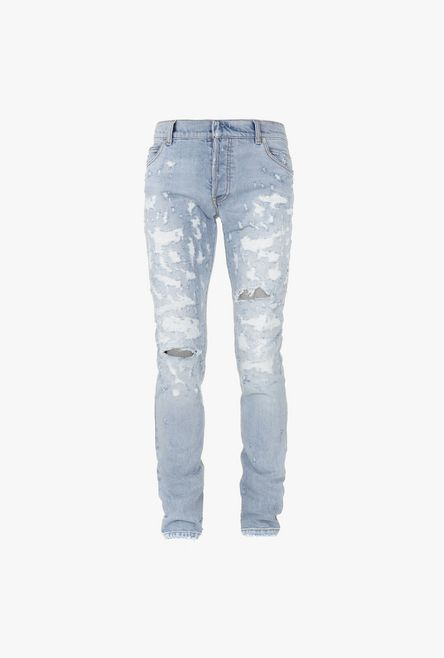Jeans: (132, 116, 301, 544)
